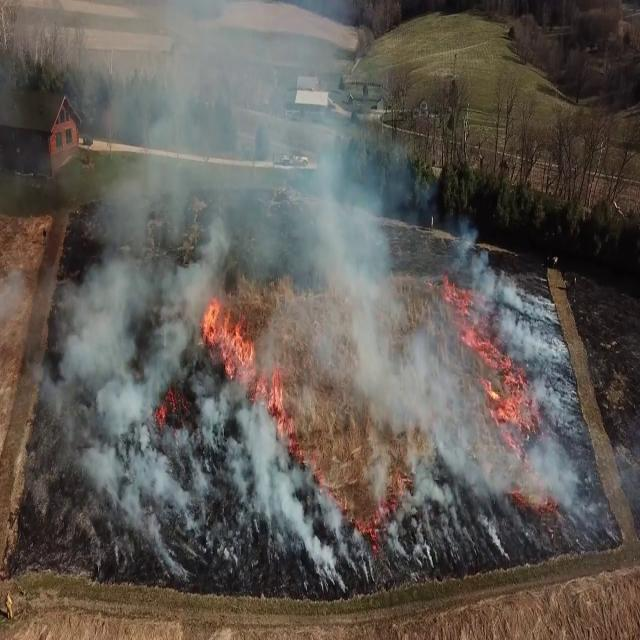Fire: (196, 286, 256, 394)
Smoke: (30, 4, 532, 584)
